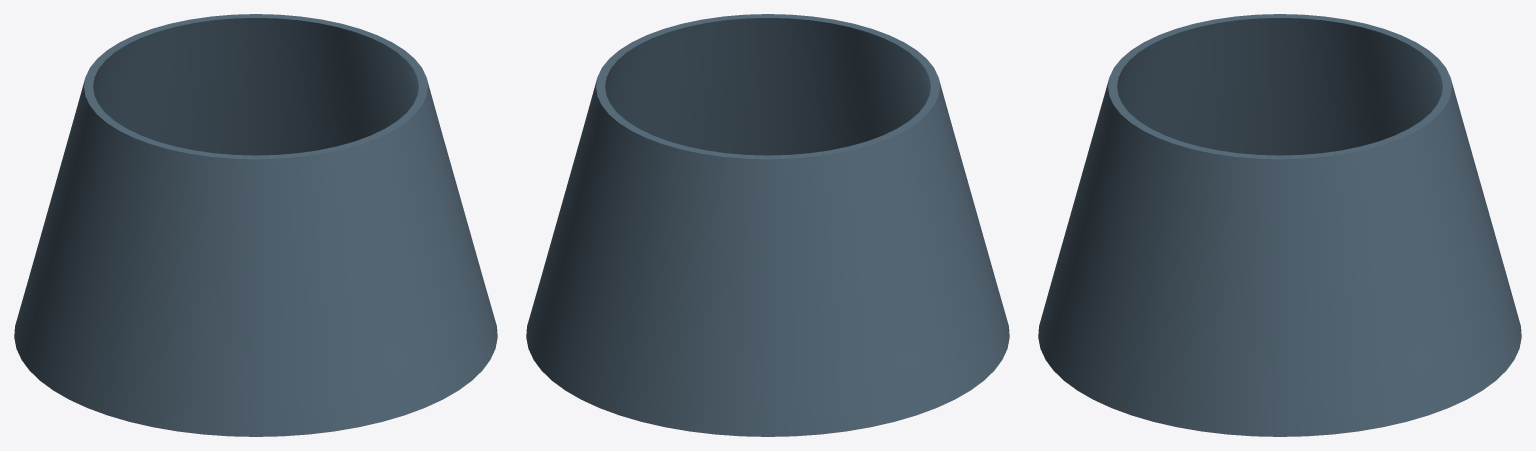
The model's file is perehod-530x12-377x10-L300.glb.
3 renders of one model, left to right at view 1: azimuth 30°, elevation 25°; view 2: azimuth 150°, elevation 25°; view 3: azimuth 270°, elevation 25°, orthographic.
Visible parts, largest first — view 1: Open CASCADE STEP translator 7.9 78; view 2: Open CASCADE STEP translator 7.9 78; view 3: Open CASCADE STEP translator 7.9 78.
Boxes of the visible parts, x1=… form: Open CASCADE STEP translator 7.9 78: x1=14, y1=14, x2=497, y2=436; Open CASCADE STEP translator 7.9 78: x1=526, y1=14, x2=1009, y2=436; Open CASCADE STEP translator 7.9 78: x1=1038, y1=14, x2=1521, y2=436.
Bounding box in the file's own units: 530 × 300 × 530.
